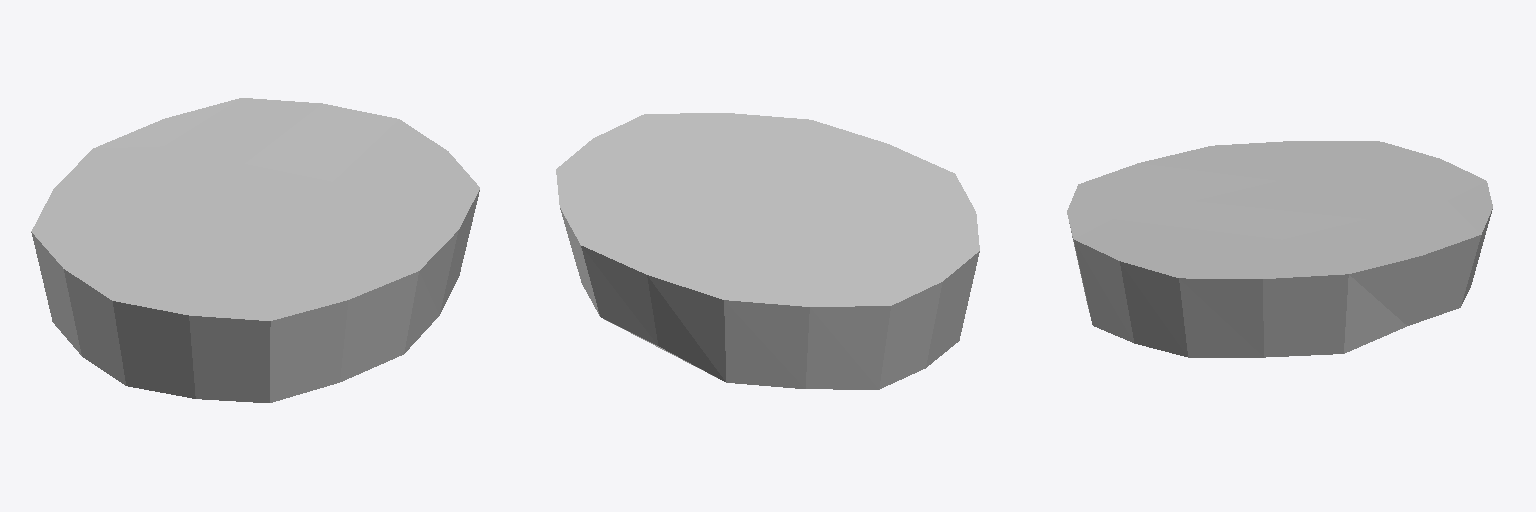
File: slice_09.obj
3 renders of one model, left to right at view 1: azimuth 30°, elevation 25°; view 2: azimuth 150°, elevation 25°; view 3: azimuth 270°, elevation 25°, orthographic.
Visible parts, largest first — view 1: Mushroom.010_Cube.019; view 2: Mushroom.010_Cube.019; view 3: Mushroom.010_Cube.019.
Boxes of the visible parts, x1,y1,x2,y2 form: Mushroom.010_Cube.019: [31, 98, 479, 402]; Mushroom.010_Cube.019: [556, 113, 979, 389]; Mushroom.010_Cube.019: [1067, 141, 1492, 357].
Size of the model in its own units: 0.6655 by 0.2369 by 0.6691.